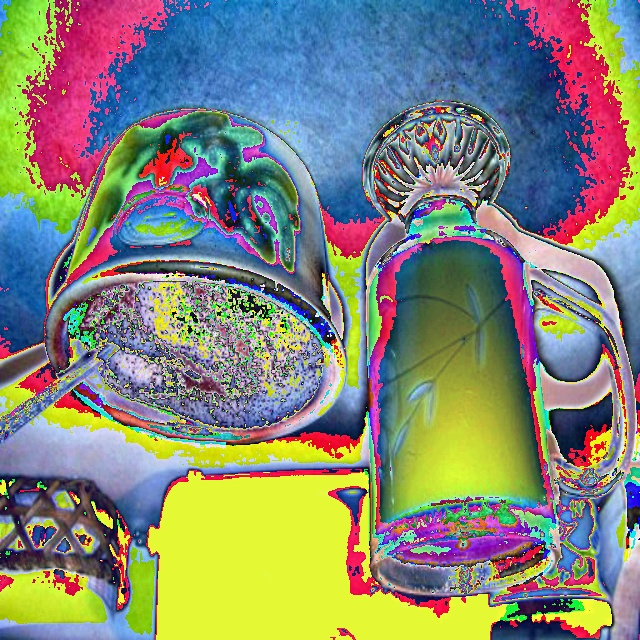background: (193, 200, 557, 571), (68, 152, 327, 433)
